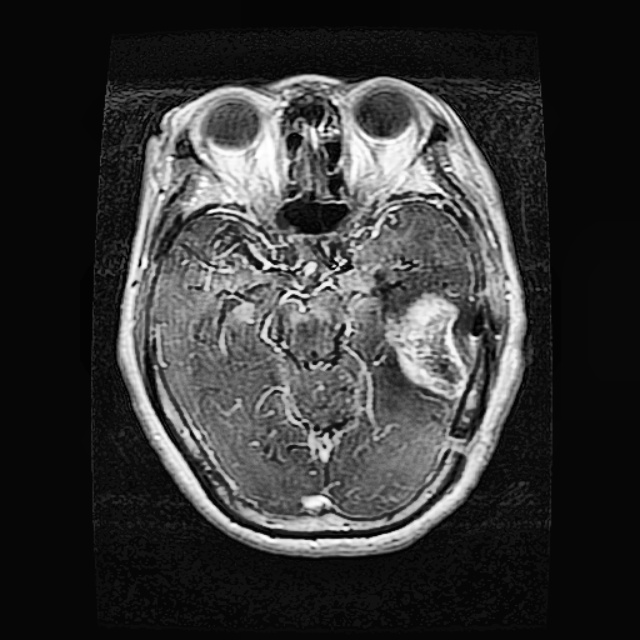Glioma: (383, 293, 468, 398)
